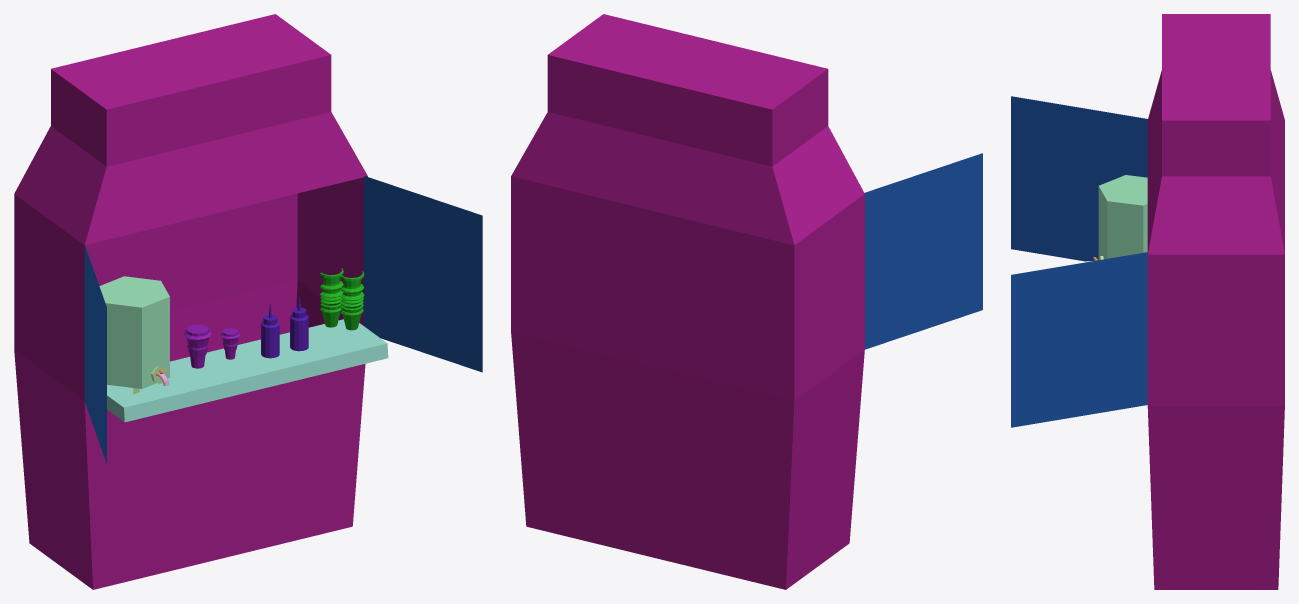
File: cafe.fbx
3 renders of one model, left to right at view 1: azimuth 30°, elevation 25°; view 2: azimuth 150°, elevation 25°; view 3: azimuth 270°, elevation 25°, orthographic. The views are drawn at different scales.
Parts seen in each view (by area): view 1: puesto_cafe001; view 2: puesto_cafe001; view 3: puesto_cafe001.
Boxes of the visible parts, bbox=[...] form: puesto_cafe001: bbox=[14, 14, 482, 589]; puesto_cafe001: bbox=[511, 14, 982, 589]; puesto_cafe001: bbox=[1011, 14, 1284, 589].
Size of the model in its own units: 78.94 by 94.95 by 51.15.
